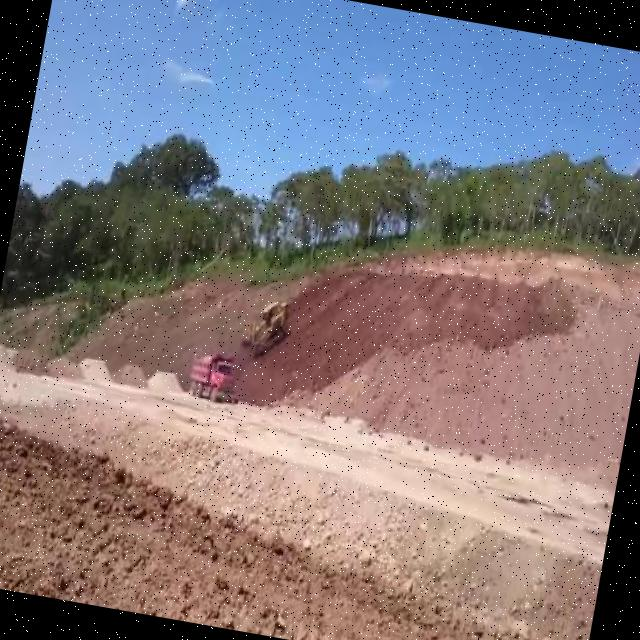Dump Truck: (184, 349, 240, 403)
